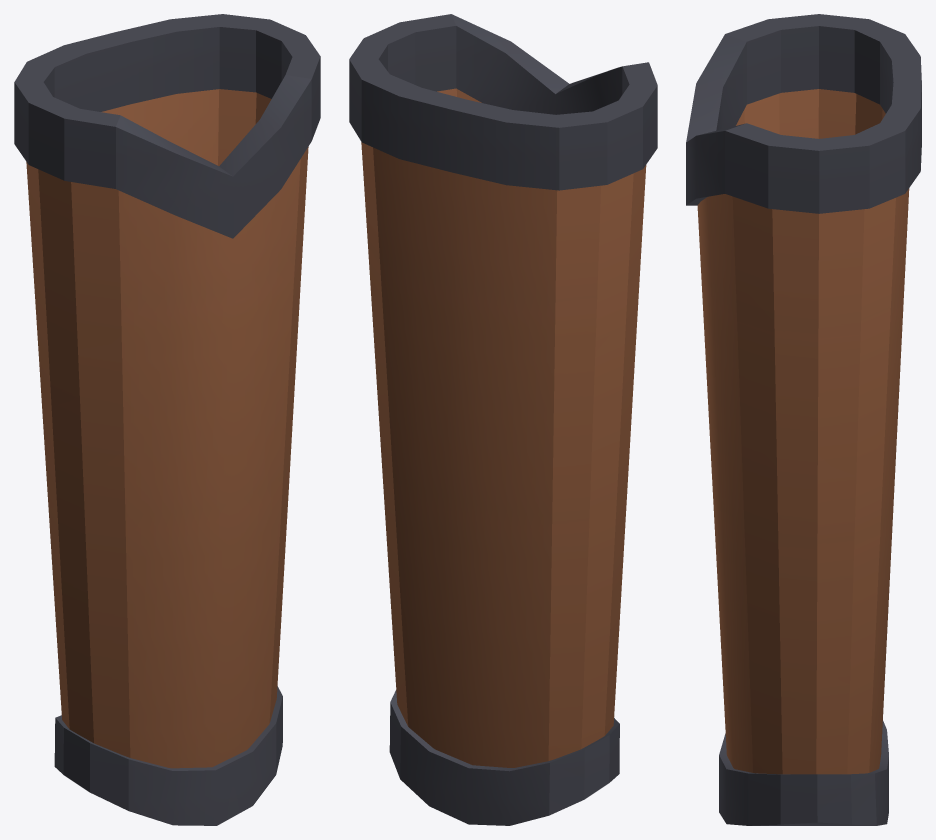
The model's file is Arrow_02.glb.
3 renders of one model, left to right at view 1: azimuth 30°, elevation 25°; view 2: azimuth 150°, elevation 25°; view 3: azimuth 270°, elevation 25°, orthographic.
Visible parts, largest first — view 1: Arrow_02_LOD0; view 2: Arrow_02_LOD0; view 3: Arrow_02_LOD0.
Part boxes in pixels (x1=…): Arrow_02_LOD0: x1=14, y1=14, x2=320, y2=825; Arrow_02_LOD0: x1=349, y1=14, x2=657, y2=825; Arrow_02_LOD0: x1=686, y1=14, x2=921, y2=825.
Size of what is drawn, in the model's own units: 0.2282 by 0.5671 by 0.1662.
Materials: 1 (1 with a texture image).
